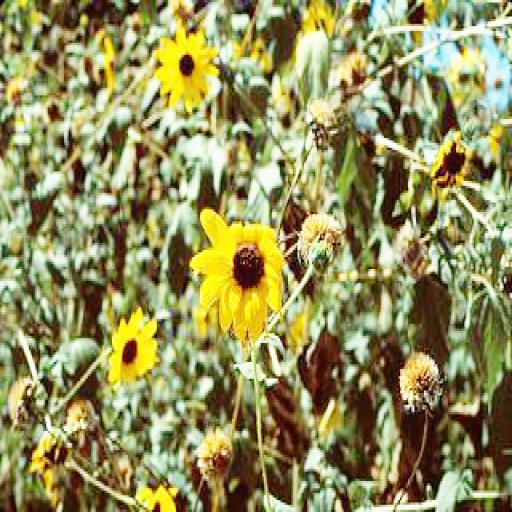sunflower: (194, 205, 283, 343), (155, 29, 218, 112), (107, 307, 157, 386), (144, 488, 178, 512)
